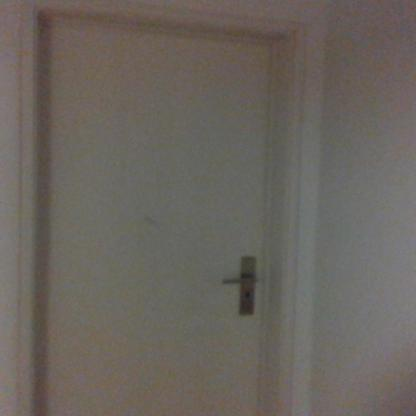door: (41, 21, 270, 416)
lever: (220, 276, 260, 286)
